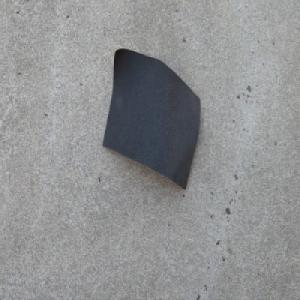PaintChip: (101, 46, 201, 190)
